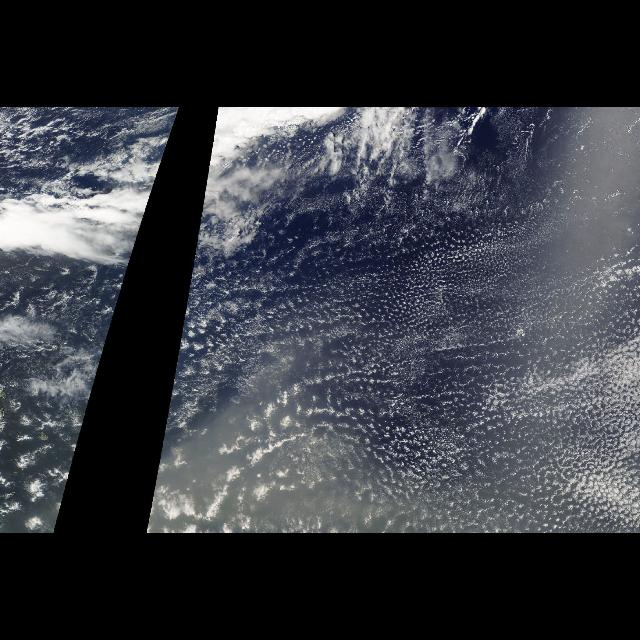Gravel: (244, 242, 636, 528)
Sugar: (211, 239, 639, 533)
